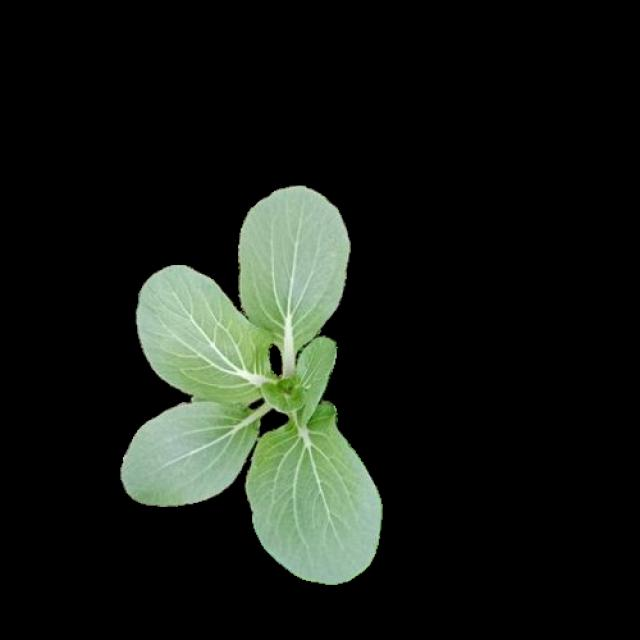healthy: (119, 180, 380, 580)
not-mature: (121, 183, 382, 582)
